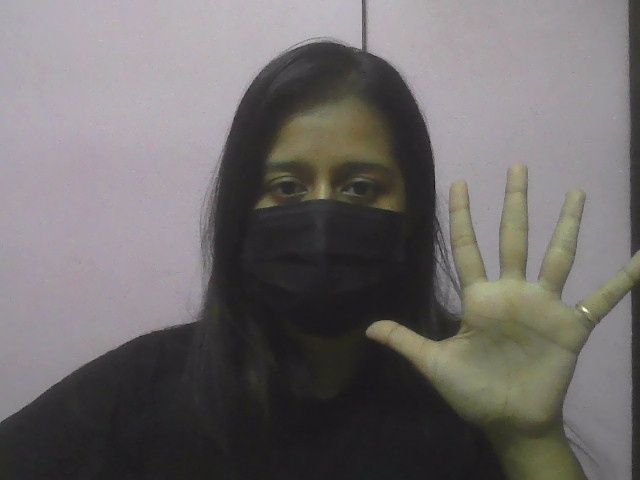Hello: (355, 154, 639, 438)
